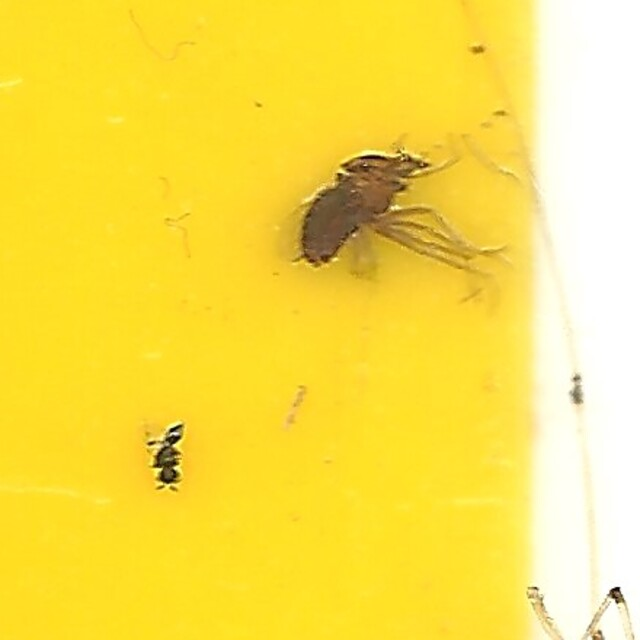Hymenoptera: (145, 418, 189, 497)
Nematocera: (284, 143, 495, 292)
